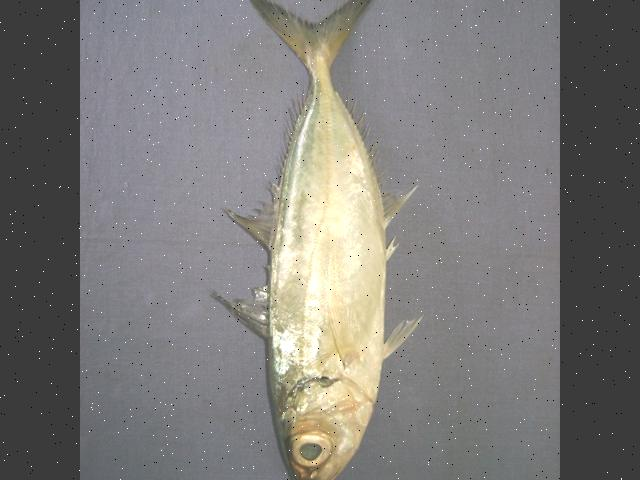Mulut: (275, 465, 347, 480)
Sirip Anal: (329, 88, 421, 218)
Sirip Dada: (318, 247, 360, 371)
Sirip Ekor: (227, 0, 388, 72)
Sirip Perut: (377, 291, 437, 363)
Sirip Punggung: (204, 156, 280, 336)
